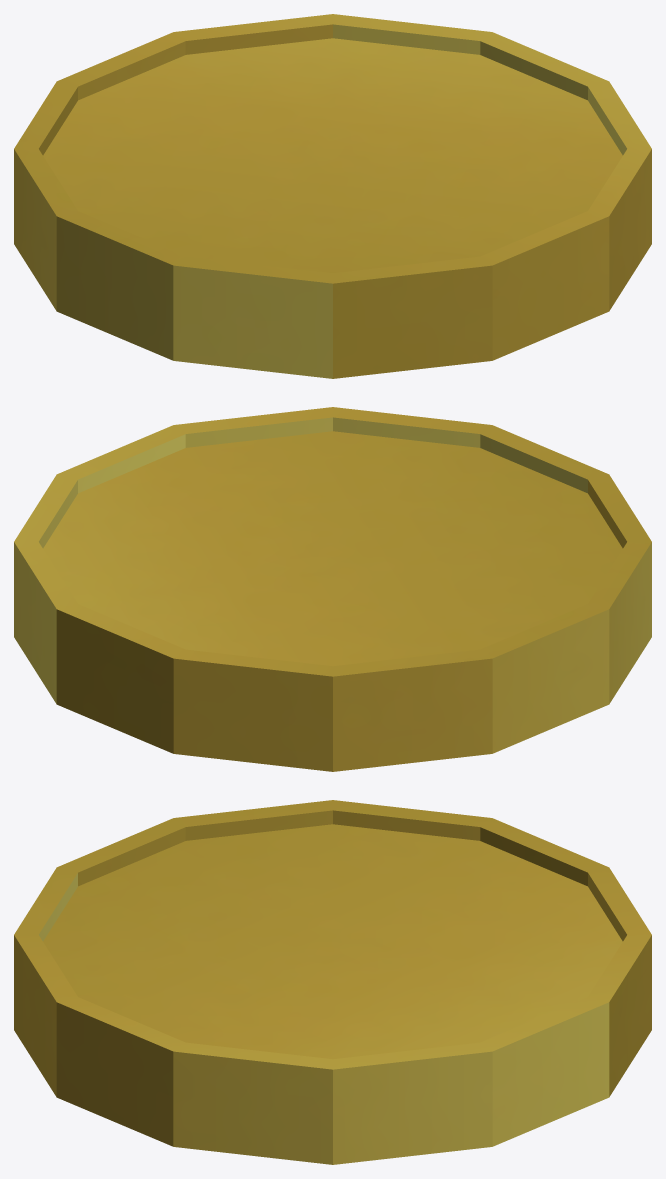
The model's file is Coin.fbx.
3 renders of one model, top to bottom at view 1: azimuth 30°, elevation 25°; view 2: azimuth 150°, elevation 25°; view 3: azimuth 270°, elevation 25°, orthographic.
Parts seen in each view (by area): view 1: Coin; view 2: Coin; view 3: Coin.
Part boxes in pixels (bbox=[...]): Coin: bbox=[14, 14, 651, 378]; Coin: bbox=[14, 407, 651, 771]; Coin: bbox=[14, 800, 651, 1164].
Size of the model in its own units: 2.56 by 0.4213 by 2.56.
